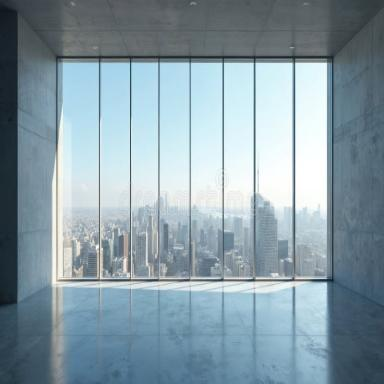glass_panel: (59, 62, 98, 278), (256, 62, 293, 278), (296, 62, 329, 276), (190, 62, 222, 279), (159, 61, 189, 279), (224, 61, 254, 278), (101, 62, 129, 276), (132, 61, 157, 278)
